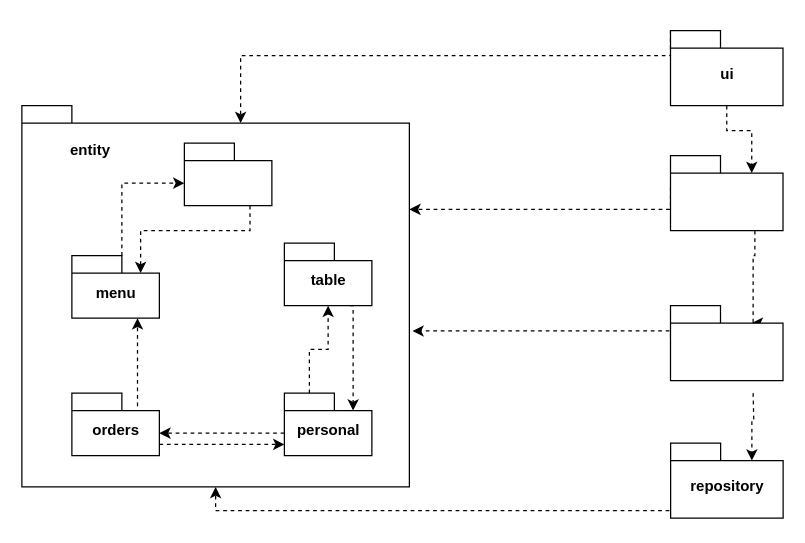
Some shapes in this 805 by 543 pixel diagram are drawn without their labels. The shapes that lost their labels are listed below. From the top down, each one's box as (x1, y1, x2, y2) in pixels, then its label:
(183, 142, 272, 206): stock
(669, 154, 783, 231): controller
(669, 304, 783, 381): service
